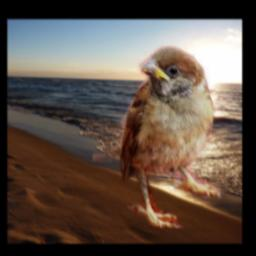Sparrow: (90, 46, 223, 228)
